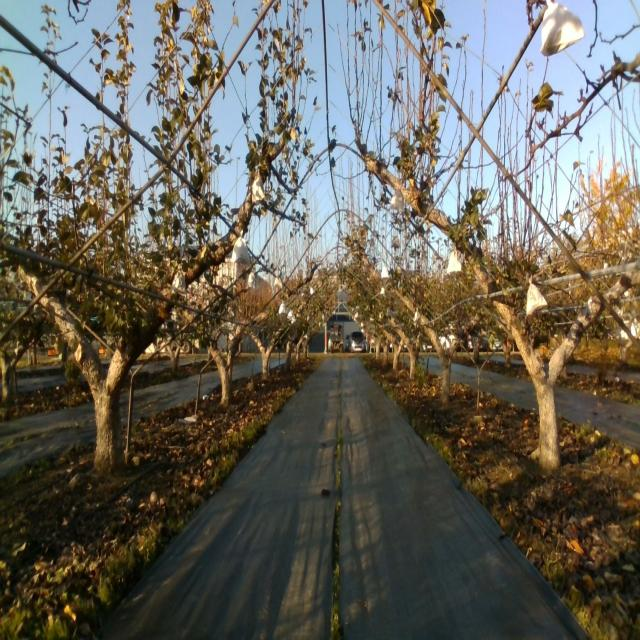pearbags: (540, 0, 586, 57), (525, 275, 550, 318), (232, 230, 252, 268), (170, 264, 188, 296), (249, 171, 266, 204), (445, 248, 464, 275), (390, 188, 407, 212)
